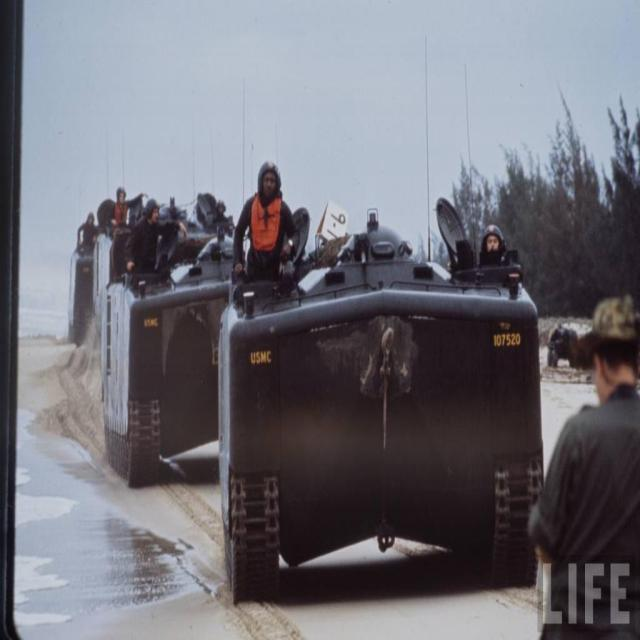tank: (219, 35, 544, 601), (101, 81, 311, 487), (93, 135, 235, 323), (68, 137, 117, 345)
